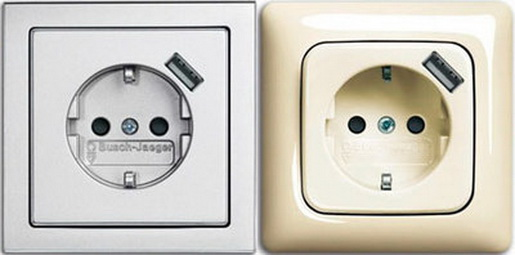raccoon: (321, 63, 454, 195), (61, 62, 196, 192)
